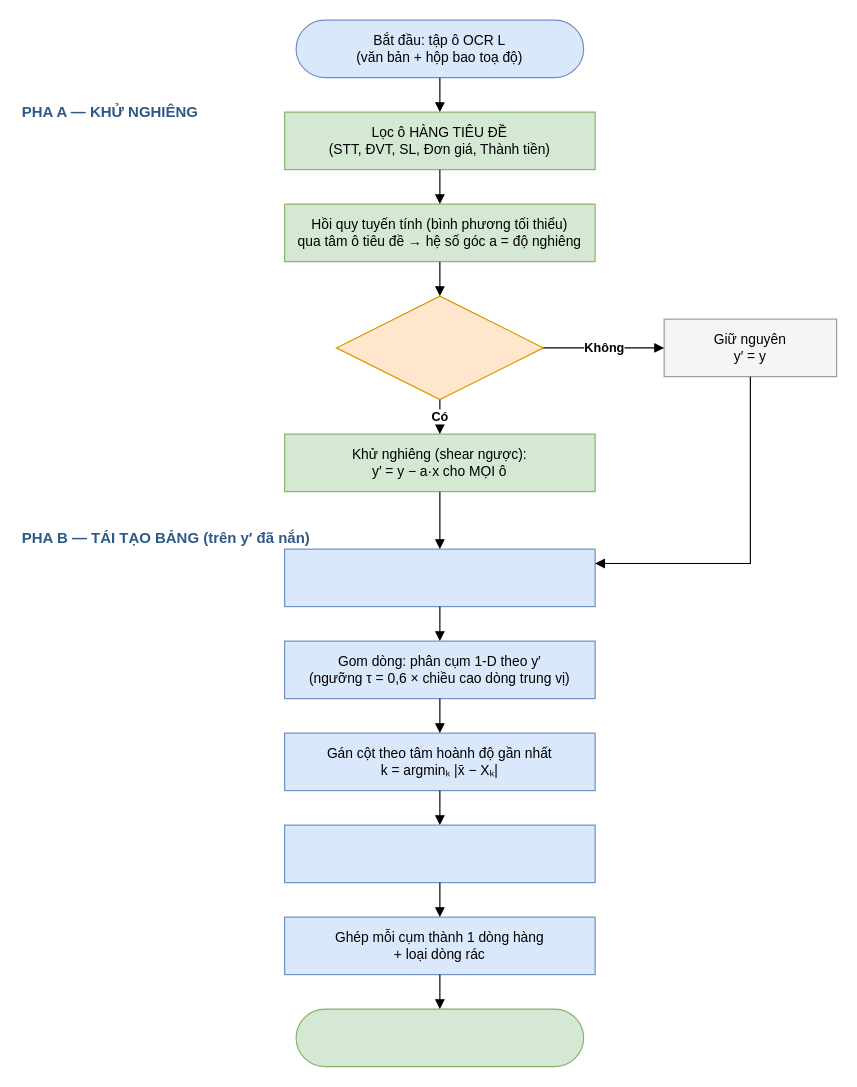
Some shapes in this 857 by 1087 pixel diagram are drawn without their labels. The shapes that lost their labels are listed below. From the top down, each one's centre as x and y in pixels, then its label:
At pixel 439 347: "|a| ≥ ε ? (ảnh có nghiêng?)".
At pixel 439 577: "Xác định biên bảng (giữa hàng tiêu đề và dòng Tổng/Thuế)".
At pixel 439 853: "Cột số (SL/đơn giá/thành tiền): chọn ô gần tâm cột (không nối → tránh dính số)".
At pixel 439 1037: "Kết quả: các trường + bảng hàng hóa (JSON)".
